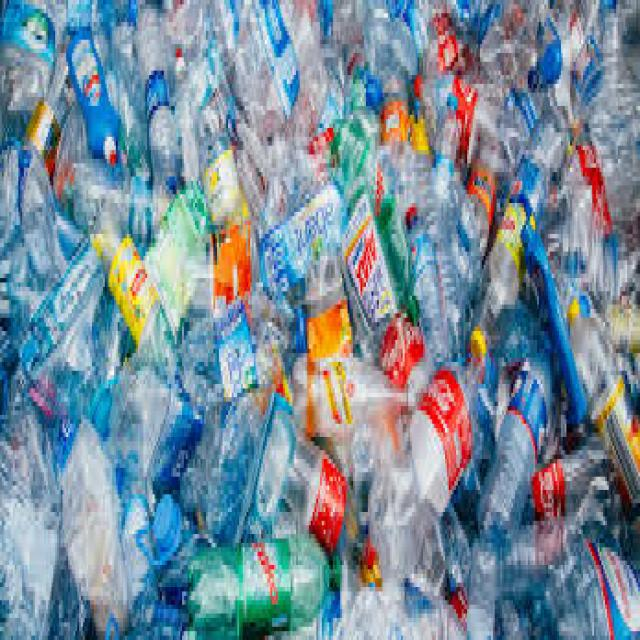plastic: (0, 0, 638, 636), (55, 318, 169, 636), (366, 331, 476, 587), (329, 102, 418, 389), (469, 106, 566, 366), (20, 207, 118, 424), (554, 13, 638, 230), (565, 291, 638, 534), (267, 410, 375, 574), (179, 287, 302, 424), (0, 349, 57, 636), (184, 534, 340, 636), (477, 340, 554, 534), (7, 163, 70, 375), (278, 345, 412, 442), (375, 128, 440, 327), (230, 0, 331, 128), (94, 199, 169, 371), (254, 49, 331, 216), (186, 35, 259, 203), (528, 525, 638, 636), (0, 212, 92, 344), (0, 132, 53, 348), (184, 384, 261, 530), (259, 177, 348, 300), (88, 0, 147, 181), (145, 172, 206, 340), (439, 393, 493, 574), (132, 481, 206, 609), (475, 291, 546, 424), (179, 0, 234, 168), (0, 0, 57, 159), (134, 0, 177, 190), (18, 36, 72, 186), (491, 517, 587, 601), (63, 18, 118, 163), (449, 155, 491, 336), (532, 428, 611, 521), (546, 212, 638, 291), (477, 80, 543, 186), (302, 212, 350, 353), (403, 194, 445, 353), (423, 199, 463, 344), (477, 0, 545, 84), (412, 66, 480, 150), (526, 13, 594, 93), (101, 574, 184, 636), (197, 132, 245, 234), (576, 468, 625, 560), (397, 574, 460, 636), (587, 283, 638, 353), (252, 318, 292, 402), (360, 0, 392, 102), (135, 486, 179, 556), (381, 309, 418, 388), (344, 583, 397, 636), (463, 596, 528, 635), (388, 13, 418, 97), (210, 221, 248, 287), (421, 9, 462, 66), (463, 530, 493, 600), (430, 88, 458, 159), (329, 0, 362, 57), (243, 203, 263, 274), (303, 124, 335, 168), (377, 93, 405, 132), (403, 0, 425, 49), (449, 578, 467, 636), (101, 605, 129, 636), (340, 40, 359, 79), (541, 313, 559, 353), (467, 318, 486, 353), (64, 0, 88, 26), (99, 128, 116, 163), (443, 583, 462, 614), (329, 547, 340, 583), (362, 534, 375, 561), (410, 62, 421, 93), (565, 296, 578, 318), (173, 40, 180, 79), (164, 172, 173, 194), (445, 84, 456, 101), (405, 194, 414, 212)
